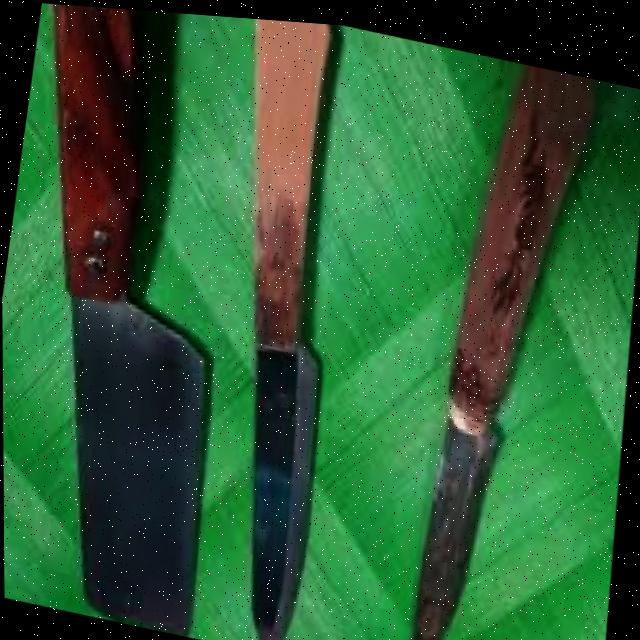knife: (0, 0, 278, 640), (166, 10, 380, 640), (398, 43, 604, 640)
